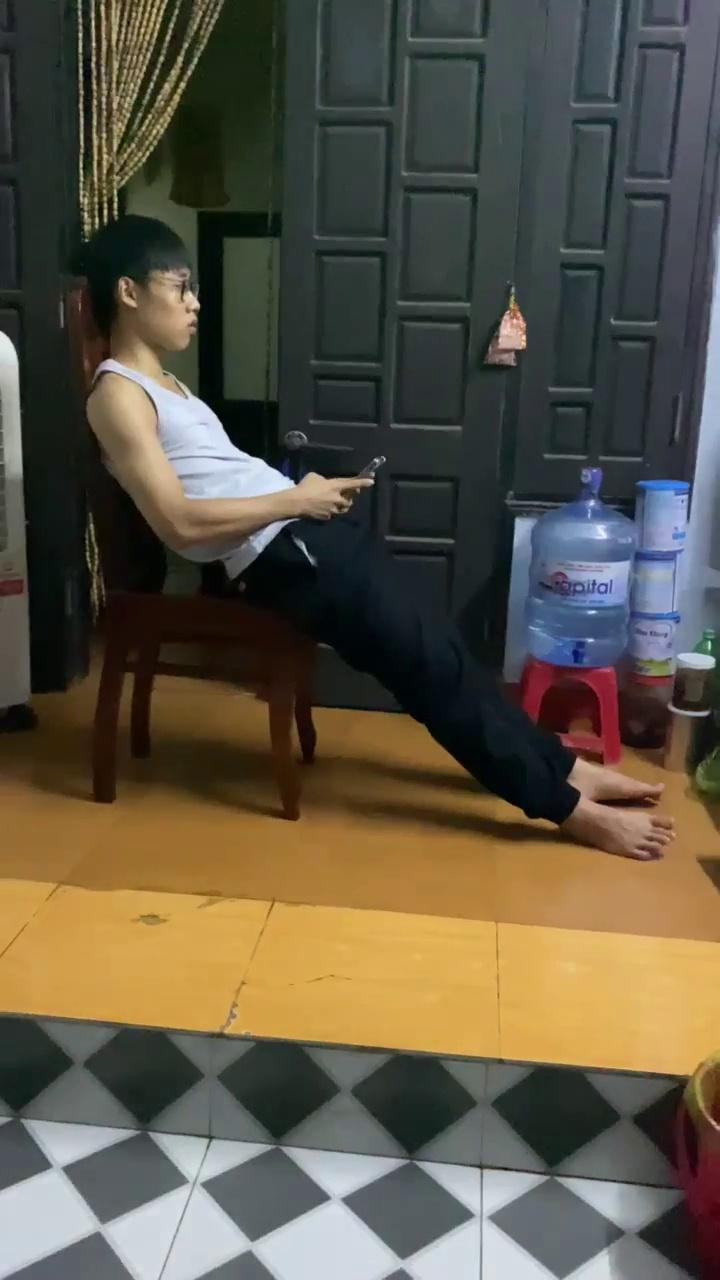BadPosture: (72, 214, 672, 859)
